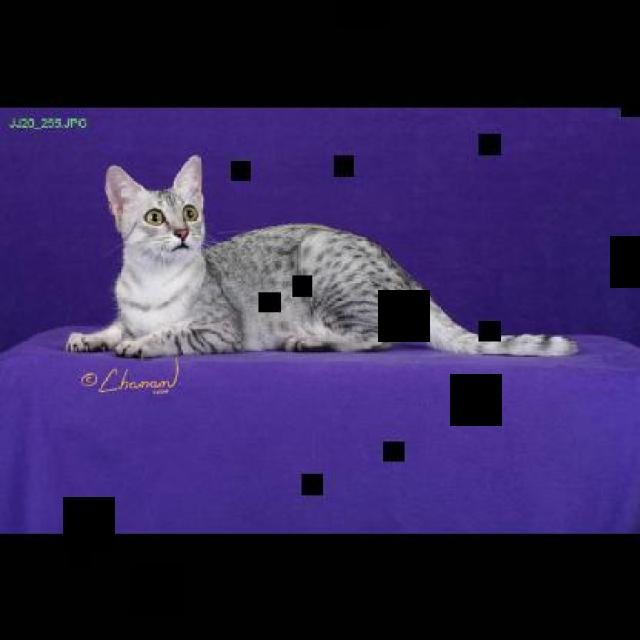unauthorized: (63, 154, 579, 358)
